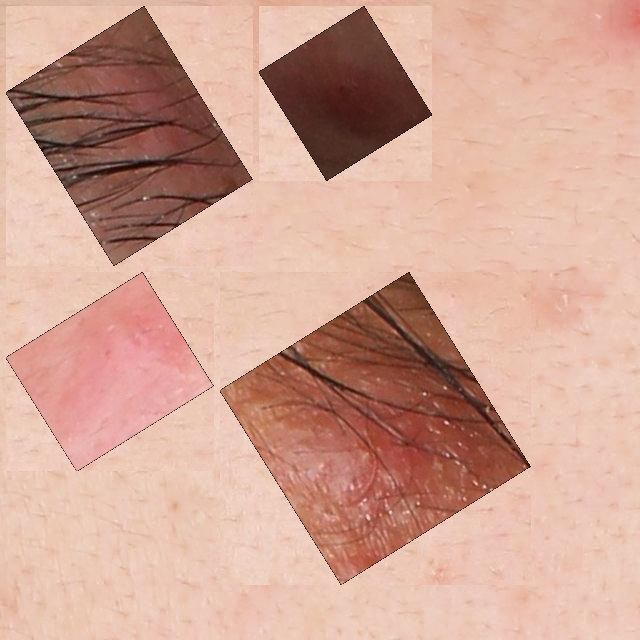nodule: (231, 283, 519, 573), (17, 17, 241, 254), (17, 283, 203, 460), (270, 17, 421, 169)
